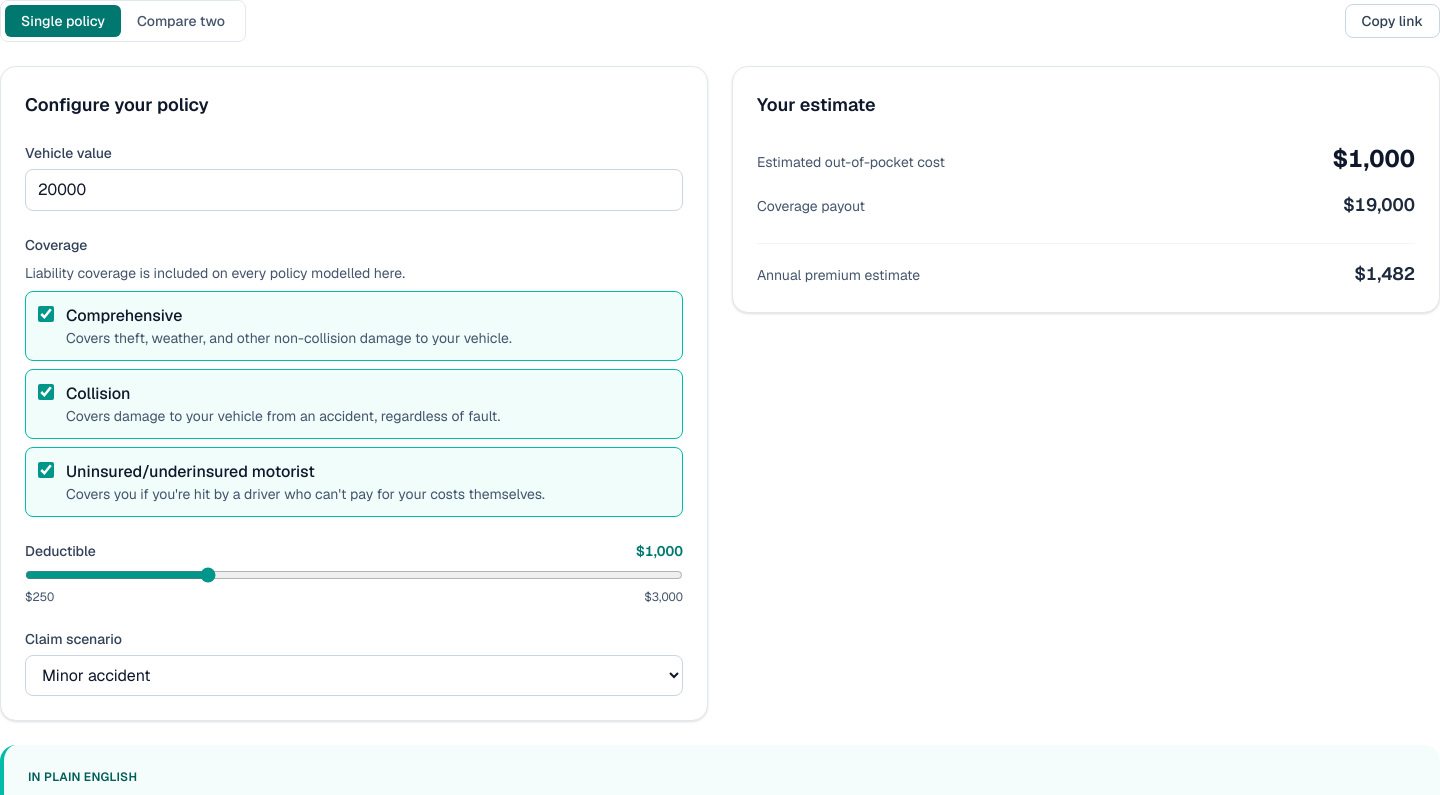
ModellerWorkspace › switches to comparison mode showing two policy panels and the comparison table
Click the button "Compare two" at (181, 21), box [121,5,241,37]
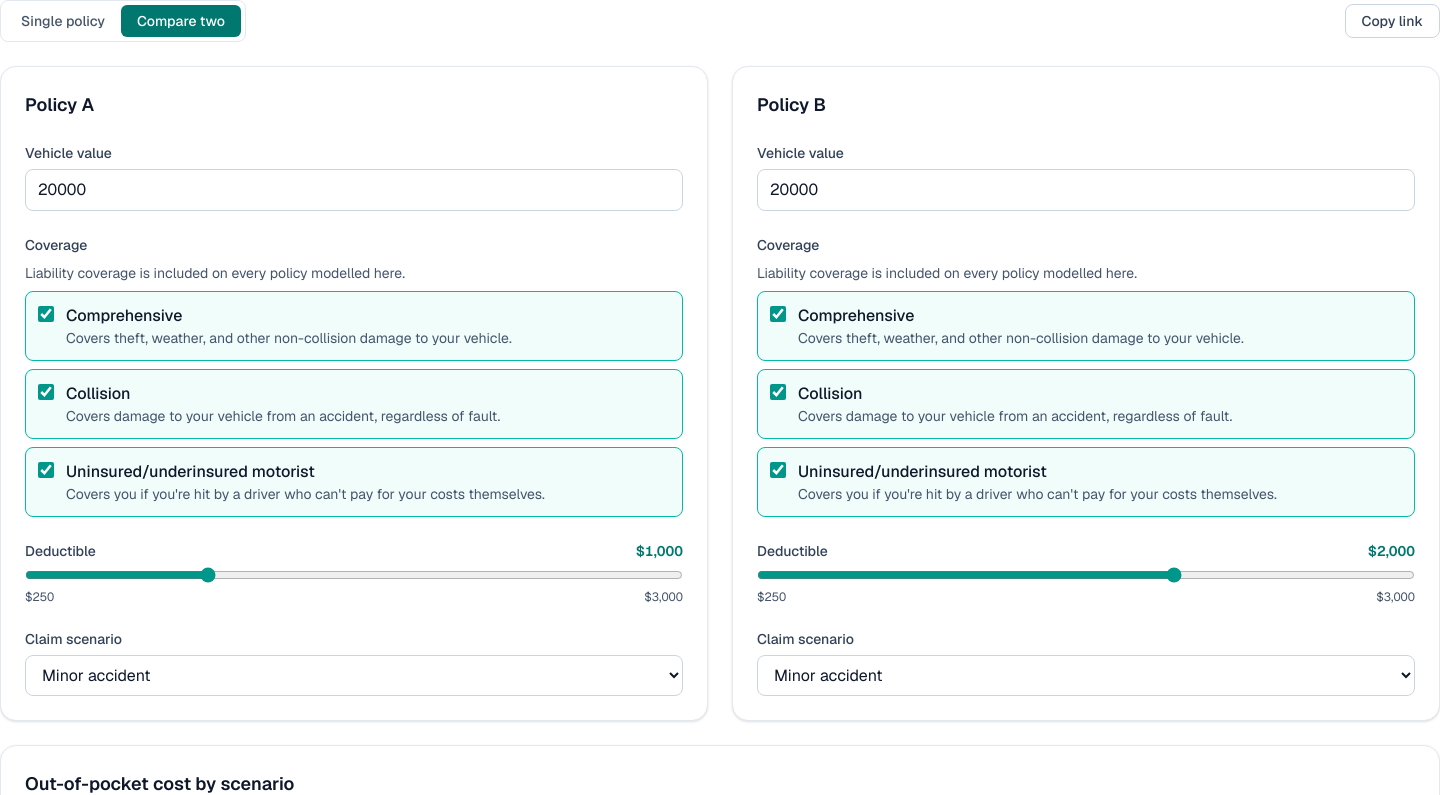
expect the heading "Policy A" is shown: met, box [25,93,94,116]
expect the heading "Policy B" is shown: met, box [757,93,826,116]
